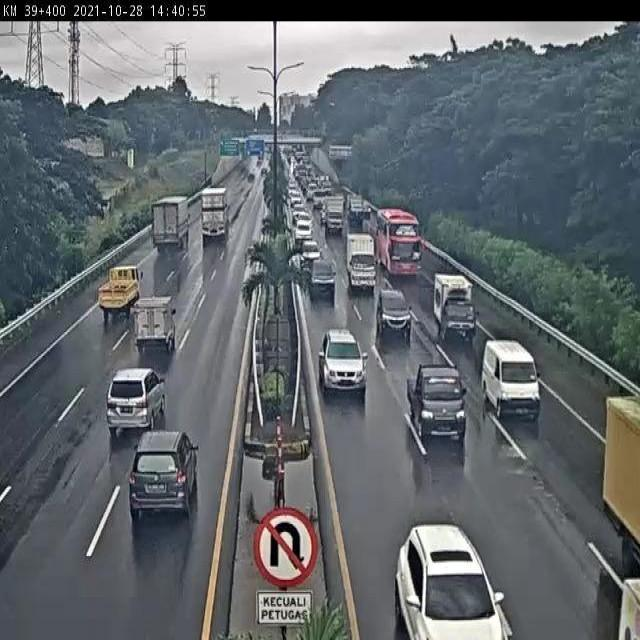bus-l-: (376, 207, 423, 280)
car: (128, 428, 203, 517), (480, 336, 541, 421), (406, 359, 469, 437), (106, 368, 167, 436), (317, 325, 366, 396), (374, 287, 413, 336), (307, 257, 337, 300)
small truck: (98, 262, 143, 318), (133, 295, 177, 349)
truck-m-: (346, 231, 379, 293)
truck-s-: (432, 272, 476, 341)
